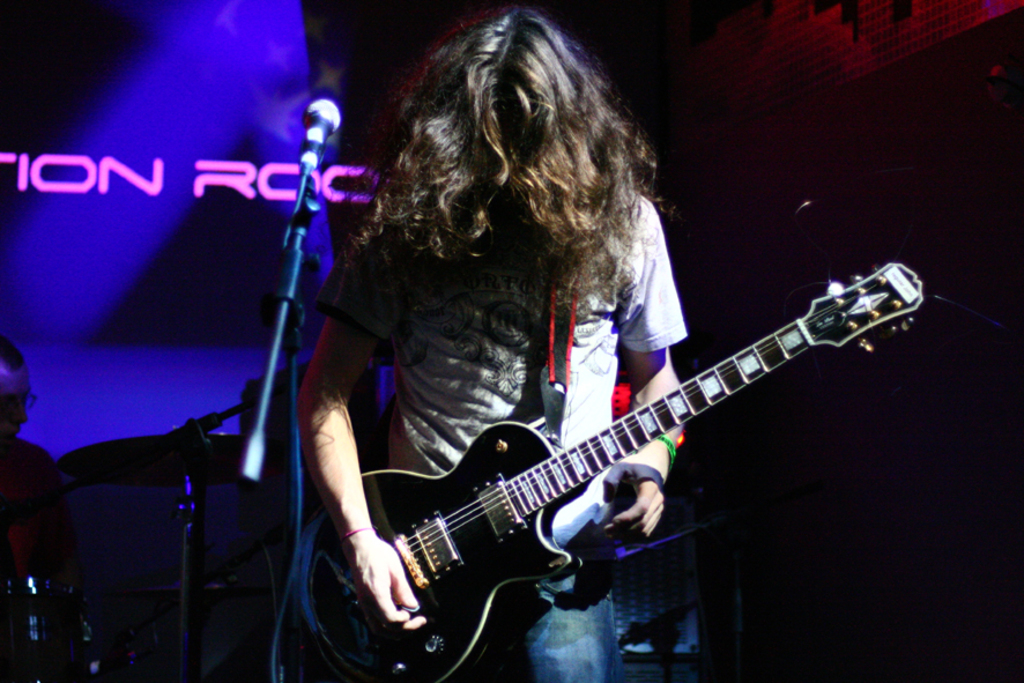guitar: (308, 256, 933, 678)
